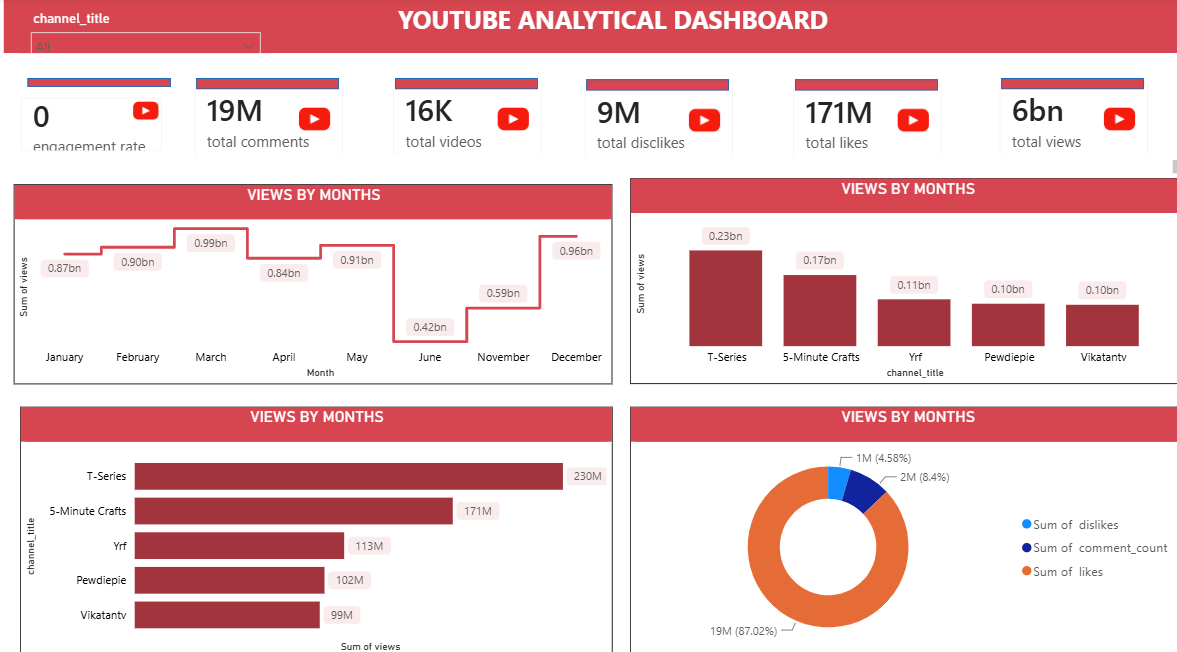

The dashboard page shown, as its layout file describes it:
{"tool":"powerbi","page":{"name":"Page 1","canvas":[1280,720],"ordinal":0},"visuals":[{"type":"textbox","box":[9.6,0,1270.7,59],"z":0},{"type":"cardVisual","fields":{"Data":["Sheet1.total views"]},"box":[1063.9,72.1,194.6,115.6],"z":0,"group":"g6"},{"type":"cardVisual","fields":{"Data":["Sheet1.total comments"]},"box":[197.7,72.6,194.6,115.6],"z":0,"group":"g5"},{"type":"cardVisual","fields":{"Data":["Sheet1.total videos"]},"box":[411.5,72.6,194.6,115.6],"z":0,"group":"g4"},{"type":"cardVisual","fields":{"Data":["Sheet1.total disclikes"]},"box":[617.7,73.5,194.6,115.6],"z":0,"group":"g1"},{"type":"cardVisual","fields":{"Data":["Sheet1.total likes"]},"box":[842.2,73.5,194.6,115.6],"z":0,"group":"g3"},{"type":"cardVisual","fields":{"Data":["Sheet1.engagement rate"]},"box":[10.8,90.4,186.9,92.5],"z":0,"group":"g2"},{"type":"group","id":"g1","title":"Group 1","box":[617.7,73.5,194.6,115.6],"z":1000},{"type":"shape","box":[1082.9,85.7,153.7,12.2],"z":1000,"group":"g6"},{"type":"shape","box":[34.8,86.1,154.2,9.8],"z":1000,"group":"g2"},{"type":"shape","box":[216.7,86.2,153.7,12.2],"z":1000,"group":"g5"},{"type":"shape","box":[430.5,86.2,153.7,12.2],"z":1000,"group":"g4"},{"type":"shape","box":[636.7,87.1,153.7,12.2],"z":1000,"group":"g1"},{"type":"shape","box":[861.2,87.1,153.7,12.2],"z":1000,"group":"g3"},{"type":"group","id":"g2","title":"Group 1","box":[10.8,86.1,186.9,96.8],"z":2000},{"type":"image","box":[135.8,107.9,53.2,27.2],"z":2000,"group":"g2"},{"type":"image","box":[1183.6,112.9,53.1,34],"z":2000,"group":"g6"},{"type":"image","box":[317.4,113.4,53.1,34],"z":2000,"group":"g5"},{"type":"image","box":[531.2,113.4,53.1,34],"z":2000,"group":"g4"},{"type":"image","box":[737.4,114.3,53.1,34],"z":2000,"group":"g1"},{"type":"image","box":[961.9,114.3,53.1,34],"z":2000,"group":"g3"},{"type":"group","id":"g3","title":"Group 1","box":[842.2,73.5,194.6,115.6],"z":3000},{"type":"group","id":"g4","title":"Group 1","box":[411.5,72.6,193.7,115.7],"z":4000},{"type":"group","id":"g5","title":"Group 1","box":[197.7,72.6,193.7,115.7],"z":5000},{"type":"group","id":"g6","title":"Group 1","box":[1063.9,72.1,194.6,115.6],"z":6000},{"type":"lineChart","title":"VIEWS BY MONTHS","fields":{"Category":["Sheet1. publish_time .Variation.Date Hierarchy.Month"],"Y":["Sum(Sheet1. views )"]},"box":[20.2,200.4,644.2,215.2],"z":7000},{"type":"barChart","title":"VIEWS BY MONTHS","fields":{"Y":["Sum(Sheet1. views )"],"Category":["Sheet1. channel_title "]},"box":[26.9,439.8,637.4,270.3],"z":8000},{"type":"textbox","box":[9.5,170.1,1270.8,24.5],"z":9000},{"type":"clusteredColumnChart","title":"VIEWS BY MONTHS","fields":{"Category":["Sheet1. channel_title "],"Y":["Sum(Sheet1. views )"]},"box":[683.2,193.7,597.1,221.9],"z":10000},{"type":"donutChart","title":"VIEWS BY MONTHS","fields":{"Y":["Sum(Sheet1. dislikes )","Sum(Sheet1. comment_count )","Sum(Sheet1. likes )"]},"box":[683.2,439.8,597.1,270.3],"z":11000},{"type":"slicer","fields":{"Values":["Sheet1. channel_title "]},"box":[28.2,8.1,267.6,51.1],"z":12000}]}

Visuals, with their boxes in screenshot pixels (x1, y1, x2, y2), scaled from the page's 1280x720 canvas onto the 1177x652 screenshot:
textbox: [9, 0, 1176, 53]
cardVisual - Sheet1.total views: [978, 65, 1157, 170]
cardVisual - Sheet1.total comments: [182, 66, 361, 170]
cardVisual - Sheet1.total videos: [378, 66, 557, 170]
cardVisual - Sheet1.total disclikes: [568, 67, 747, 171]
cardVisual - Sheet1.total likes: [774, 67, 953, 171]
cardVisual - Sheet1.engagement rate: [10, 82, 182, 166]
"Group 1" group: [568, 67, 747, 171]
shape: [996, 78, 1137, 89]
shape: [32, 78, 174, 87]
shape: [199, 78, 341, 89]
shape: [396, 78, 537, 89]
shape: [585, 79, 727, 90]
shape: [792, 79, 933, 90]
"Group 1" group: [10, 78, 182, 166]
image: [125, 98, 174, 122]
image: [1088, 102, 1137, 133]
image: [292, 103, 341, 133]
image: [488, 103, 537, 133]
image: [678, 104, 727, 134]
image: [884, 104, 933, 134]
"Group 1" group: [774, 67, 953, 171]
"Group 1" group: [378, 66, 557, 171]
"Group 1" group: [182, 66, 360, 171]
"Group 1" group: [978, 65, 1157, 170]
"VIEWS BY MONTHS" lineChart: [19, 181, 611, 376]
"VIEWS BY MONTHS" barChart: [25, 398, 611, 643]
textbox: [9, 154, 1176, 176]
"VIEWS BY MONTHS" clusteredColumnChart: [628, 175, 1176, 376]
"VIEWS BY MONTHS" donutChart: [628, 398, 1176, 643]
slicer - Sheet1. channel_title : [26, 7, 272, 54]
